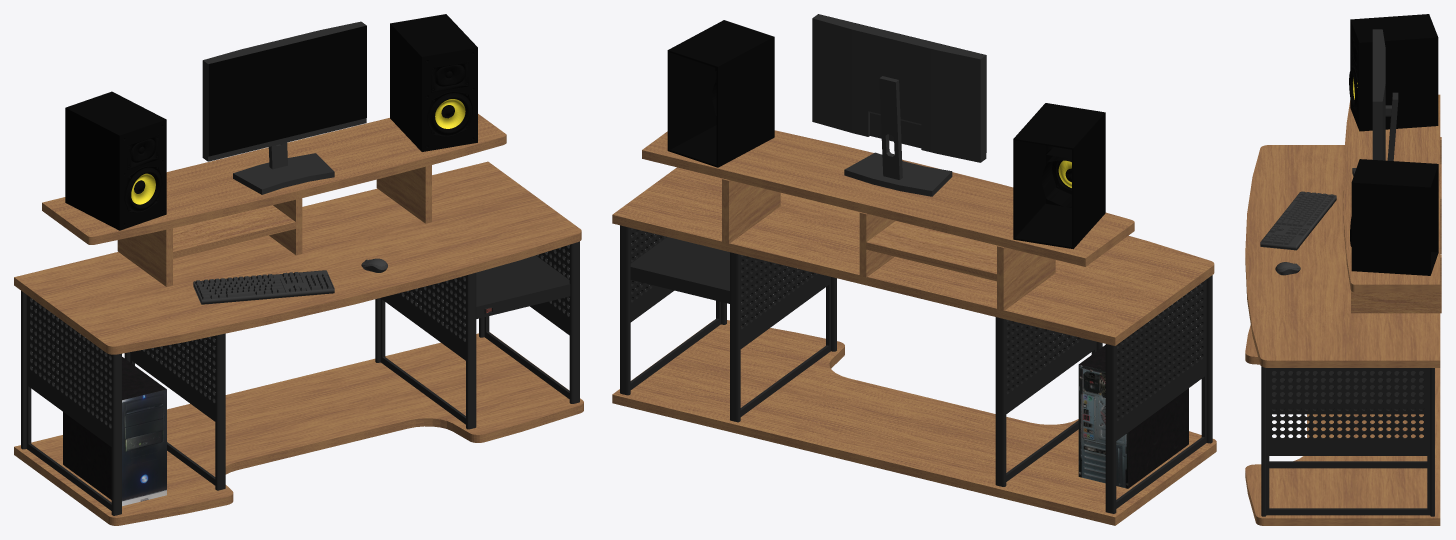
Rendered from AudioTable.glb.
3 renders of one model, left to right at view 1: azimuth 30°, elevation 25°; view 2: azimuth 150°, elevation 25°; view 3: azimuth 270°, elevation 25°, orthographic. The views are drawn at different scales.
Parts seen in each view (by area): view 1: MiddleTable, LowerTable, MiddleTable.001, Screen, SpeakerLeft, TableLeg1, SpeakerRight, Gigabyte Computer, TableLeg3, TableLeg2, Dell Monitor, TableLeg4 (+6 smaller); view 2: LowerTable, MiddleTable, Dell Monitor, MiddleTable.001, SpeakerRight, TableLeg1, SpeakerLeft, TableLeg3, Gigabyte Computer, TableLeg2, TableLeg4, AudioConnector (+4 smaller); view 3: MiddleTable, TableLeg4, LowerTable, SpeakerRight, SpeakerLeft, MiddleTable.001, Blender keyboard, Dell Monitor, AudioConnector, TopTableLeg3, TableLeg3.
Part boxes in pixels (<box>): MiddleTable: <box>14,161,581,354</box>; LowerTable: <box>14,332,583,525</box>; MiddleTable.001: <box>42,114,506,244</box>; Screen: <box>208,25,366,156</box>; SpeakerLeft: <box>65,91,166,230</box>; TableLeg1: <box>21,291,121,515</box>; SpeakerRight: <box>390,14,477,151</box>; Gigabyte Computer: <box>63,357,166,506</box>; TableLeg3: <box>375,272,476,429</box>; TableLeg2: <box>124,333,225,490</box>; Dell Monitor: <box>202,21,366,194</box>; TableLeg4: <box>479,241,579,403</box>; LowerTable: <box>612,320,1216,525</box>; MiddleTable: <box>612,167,1214,345</box>; Dell Monitor: <box>812,14,986,196</box>; MiddleTable.001: <box>642,130,1134,266</box>; SpeakerRight: <box>667,20,774,167</box>; TableLeg1: <box>1105,275,1212,513</box>; SpeakerLeft: <box>1013,103,1105,249</box>; TableLeg3: <box>730,252,836,422</box>; Gigabyte Computer: <box>1078,342,1188,488</box>; TableLeg2: <box>995,317,1102,486</box>; TableLeg4: <box>620,225,726,395</box>; AudioConnector: <box>630,237,769,303</box>; MiddleTable: <box>1245,145,1441,367</box>; TableLeg4: <box>1261,366,1434,516</box>; LowerTable: <box>1245,325,1440,525</box>; SpeakerRight: <box>1350,159,1438,275</box>; SpeakerLeft: <box>1349,14,1438,131</box>; MiddleTable.001: <box>1343,94,1440,292</box>; Blender keyboard: <box>1260,191,1336,250</box>; Dell Monitor: <box>1352,29,1398,176</box>; AudioConnector: <box>1272,371,1423,414</box>; TopTableLeg3: <box>1351,257,1441,313</box>; TableLeg3: <box>1269,461,1427,468</box>.
Bounding box in the file's own units: 1.83 × 1.4 × 0.705.
18 materials, 3 textured.
